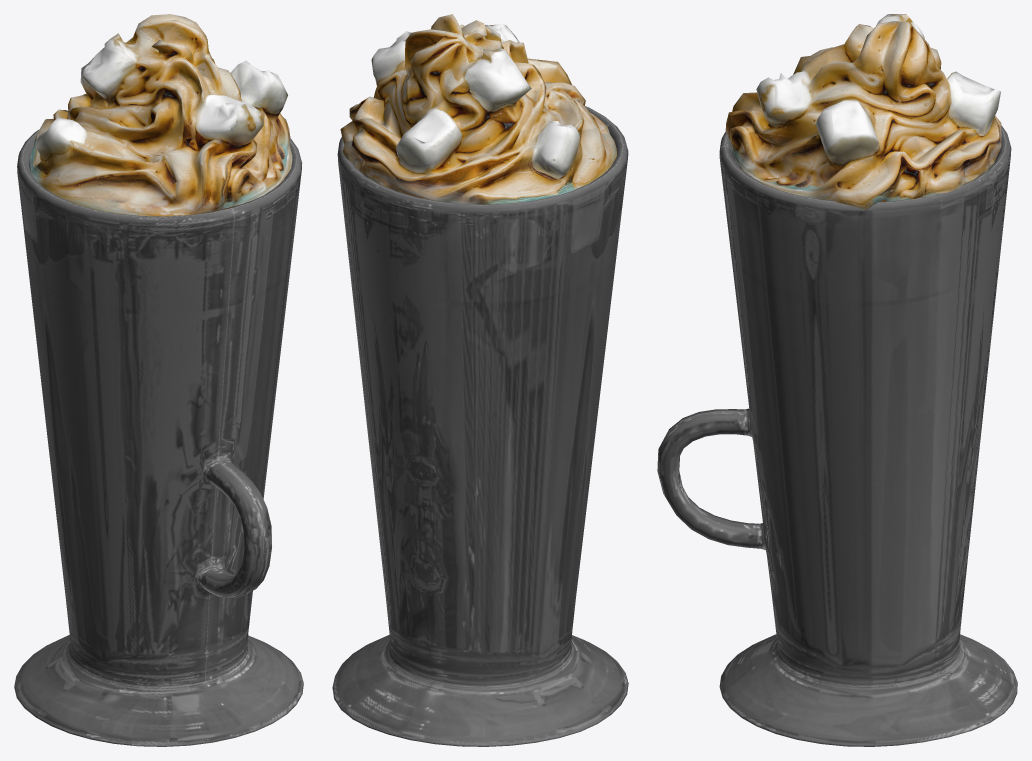
Rendered from Hot Chocolate.FBX.
The picture shows the model from 3 angles, left to right: view 1: azimuth 30°, elevation 25°; view 2: azimuth 150°, elevation 25°; view 3: azimuth 270°, elevation 25°; orthographic projection. The views are drawn at different scales.
Visible parts, largest first — view 1: Object001, 003; view 2: Object001, 003; view 3: Object001, 003.
Part boxes in pixels (x1,y1,x2,y2): Object001: (14, 130, 303, 746); 003: (30, 14, 292, 216); Object001: (332, 106, 628, 746); 003: (340, 14, 616, 204); Object001: (657, 125, 1017, 746); 003: (725, 14, 1001, 209).
Bounding box in the file's own units: 7.26 × 18.12 × 8.79.
